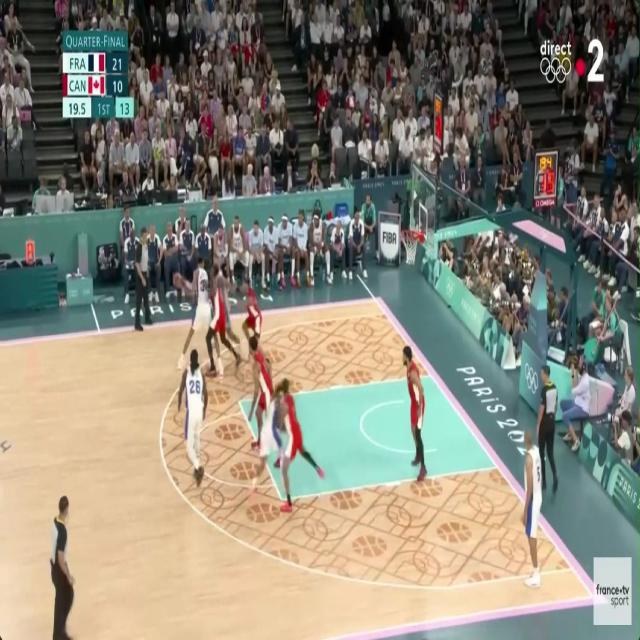ball_handler: (172, 259, 208, 369)
